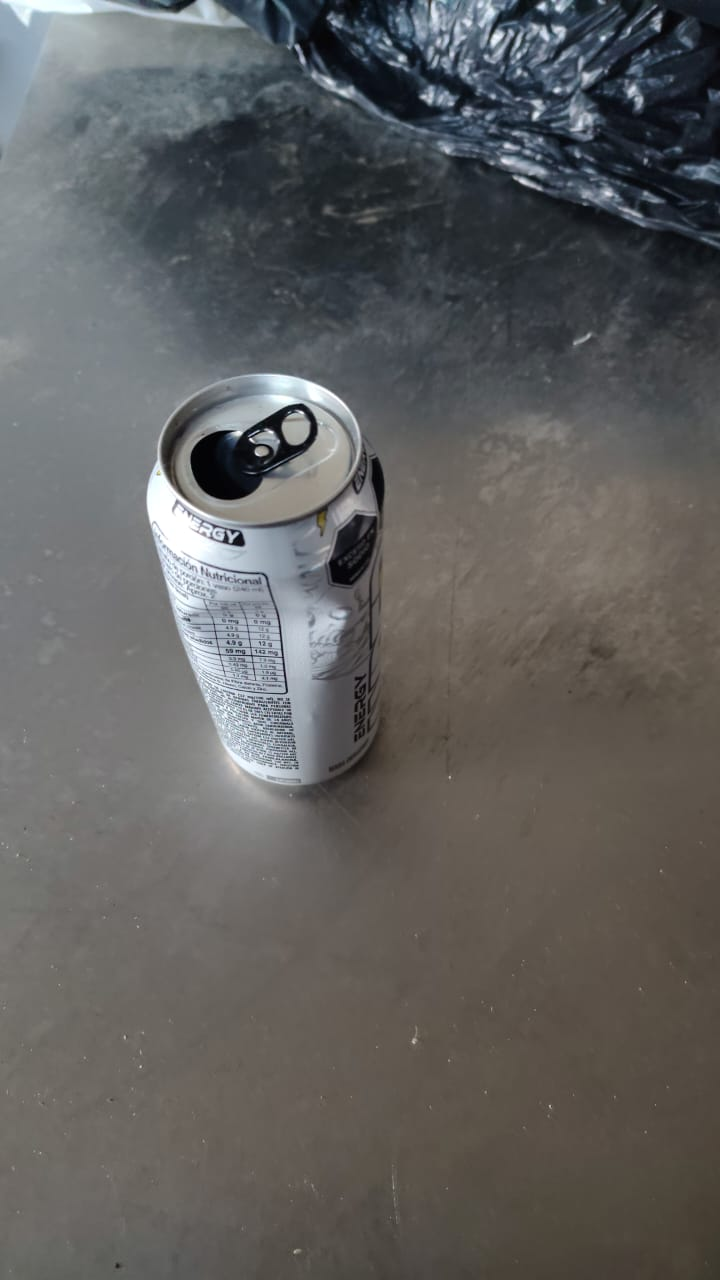Metal: (143, 370, 387, 789)
